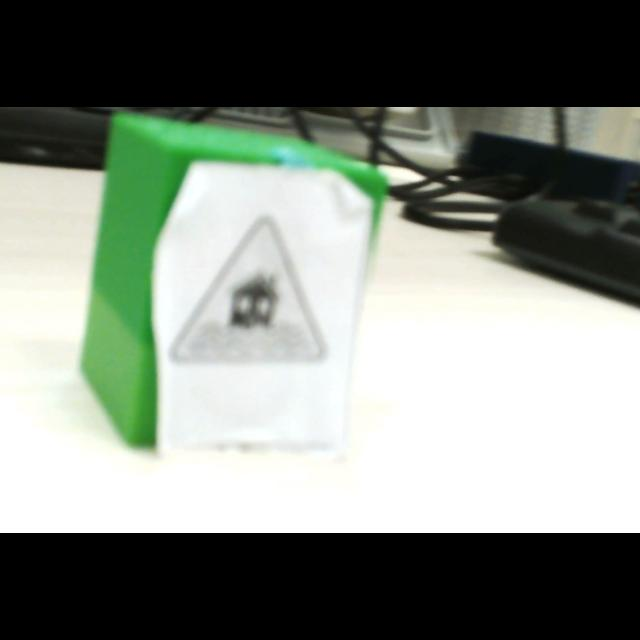Tsunami: (169, 217, 325, 367)
